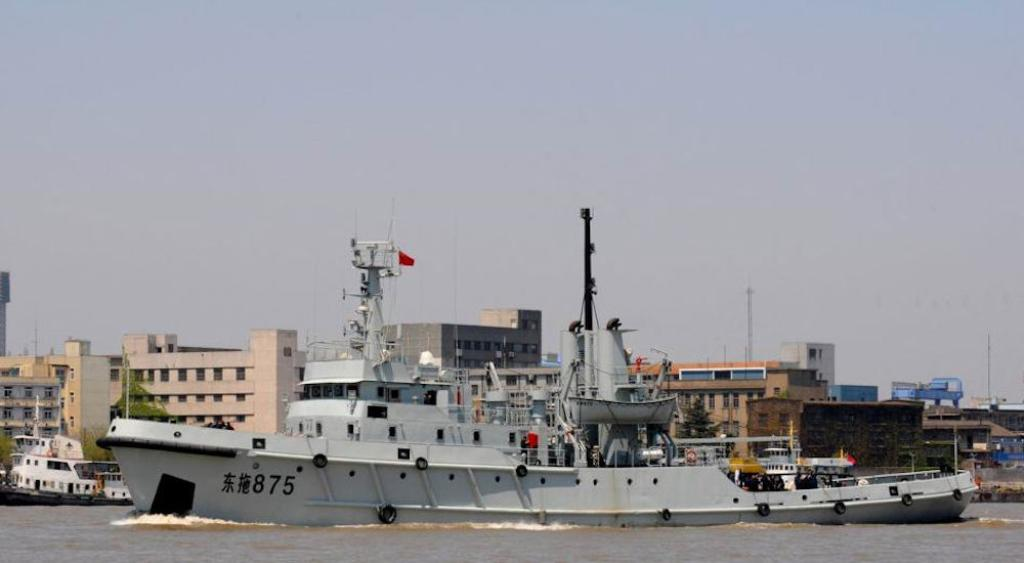Warship: (92, 234, 982, 522)
